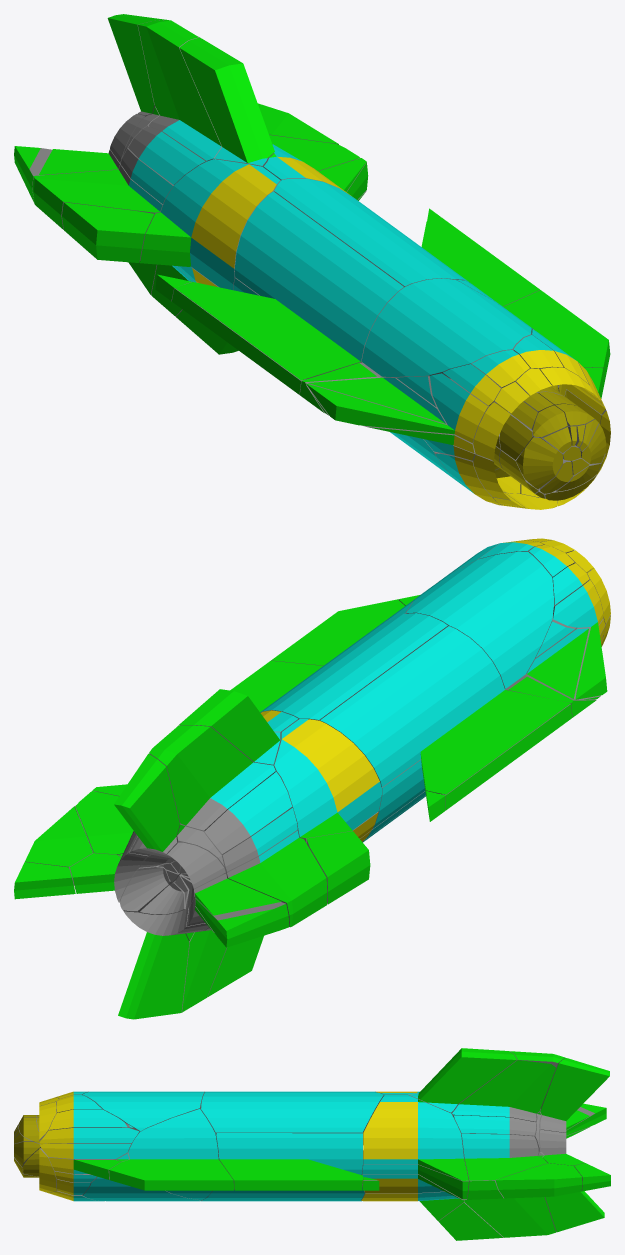
File: Rocket9Broken.fbx
3 renders of one model, top to bottom at view 1: azimuth 30°, elevation 25°; view 2: azimuth 150°, elevation 25°; view 3: azimuth 270°, elevation 25°, orthographic. The views are drawn at different scales.
Visible parts, largest first — view 1: Cylinder.004_cell.009, Cylinder.004_cell.039, Cylinder.004_cell.072, Cylinder.004_cell.074, Cylinder.004_cell.044, Cylinder.004_cell.093, Cylinder.004_cell.015, Cylinder.004_cell.086, Cylinder.004_cell.052, Cylinder.004_cell.027, Cylinder.004_cell.058, Cylinder.004_cell.063 (+25 smaller); view 2: Cylinder.004_cell.009, Cylinder.004_cell.039, Cylinder.004_cell.072, Cylinder.004_cell.093, Cylinder.004_cell.074, Cylinder.004_cell.056, Cylinder.004_cell.086, Cylinder.004_cell.007, Cylinder.004_cell.044, Cylinder.004_cell.058, Cylinder.004_cell.016, Cylinder.004_cell.082 (+21 smaller); view 3: Cylinder.004_cell.052, Cylinder.004_cell.058, Cylinder.004_cell.074, Cylinder.004_cell.068, Cylinder.004_cell.090, Cylinder.004_cell.044, Cylinder.004_cell.024, Cylinder.004_cell.039, Cylinder.004_cell.007, Cylinder.004_cell.021, Cylinder.004_cell.059, Cylinder.004_cell.017 (+27 smaller).
Boxes of the visible parts, bbox=[...] form: Cylinder.004_cell.009: bbox=[175, 191, 404, 380]; Cylinder.004_cell.039: bbox=[361, 278, 531, 378]; Cylinder.004_cell.072: bbox=[140, 159, 280, 290]; Cylinder.004_cell.074: bbox=[274, 178, 469, 286]; Cylinder.004_cell.044: bbox=[179, 37, 274, 166]; Cylinder.004_cell.093: bbox=[138, 20, 221, 161]; Cylinder.004_cell.015: bbox=[306, 373, 488, 442]; Cylinder.004_cell.086: bbox=[32, 165, 163, 229]; Cylinder.004_cell.052: bbox=[421, 217, 539, 306]; Cylinder.004_cell.027: bbox=[62, 202, 154, 262]; Cylinder.004_cell.058: bbox=[456, 280, 610, 381]; Cylinder.004_cell.063: bbox=[308, 377, 500, 453]; Cylinder.004_cell.009: bbox=[320, 626, 570, 794]; Cylinder.004_cell.039: bbox=[406, 551, 553, 688]; Cylinder.004_cell.072: bbox=[272, 719, 381, 842]; Cylinder.004_cell.093: bbox=[149, 725, 275, 831]; Cylinder.004_cell.074: bbox=[260, 613, 447, 720]; Cylinder.004_cell.056: bbox=[118, 907, 208, 1019]; Cylinder.004_cell.086: bbox=[225, 830, 327, 927]; Cylinder.004_cell.007: bbox=[114, 753, 179, 855]; Cylinder.004_cell.044: bbox=[179, 689, 280, 765]; Cylinder.004_cell.058: bbox=[271, 595, 419, 665]; Cylinder.004_cell.016: bbox=[372, 704, 571, 829]; Cylinder.004_cell.082: bbox=[204, 772, 292, 853]; Cylinder.004_cell.052: bbox=[215, 1133, 362, 1190]; Cylinder.004_cell.058: bbox=[109, 1108, 233, 1200]; Cylinder.004_cell.074: bbox=[201, 1092, 383, 1144]; Cylinder.004_cell.068: bbox=[363, 1095, 468, 1180]; Cylinder.004_cell.090: bbox=[447, 1060, 555, 1121]; Cylinder.004_cell.044: bbox=[410, 1048, 516, 1112]; Cylinder.004_cell.024: bbox=[461, 1133, 547, 1180]; Cylinder.004_cell.039: bbox=[82, 1091, 204, 1143]; Cylinder.004_cell.007: bbox=[540, 1058, 609, 1132]; Cylinder.004_cell.021: bbox=[464, 1197, 555, 1237]; Cylinder.004_cell.059: bbox=[495, 1163, 582, 1198]; Cylinder.004_cell.017: bbox=[202, 1184, 364, 1200].
Bounding box in the file's own units: 0.6916 × 0.6808 × 1.98.
